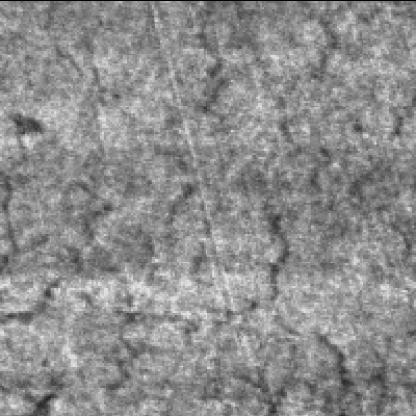crazing: (19, 35, 160, 387), (206, 114, 372, 412), (168, 5, 296, 332)
